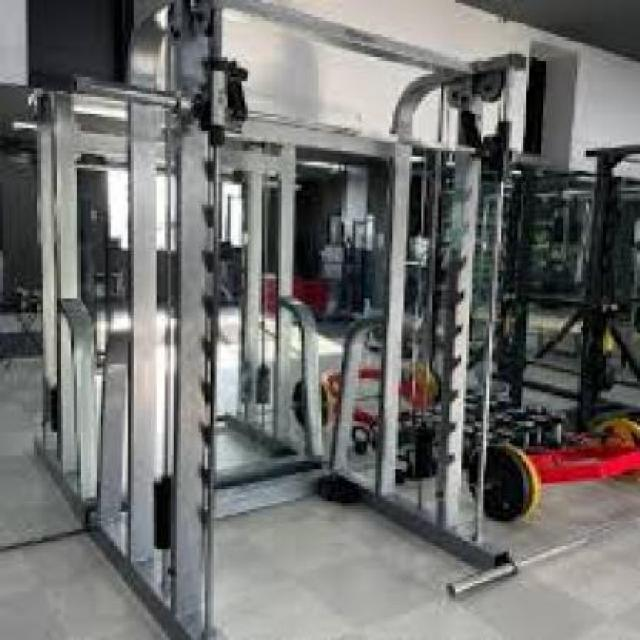smith machine: (92, 2, 525, 600)
